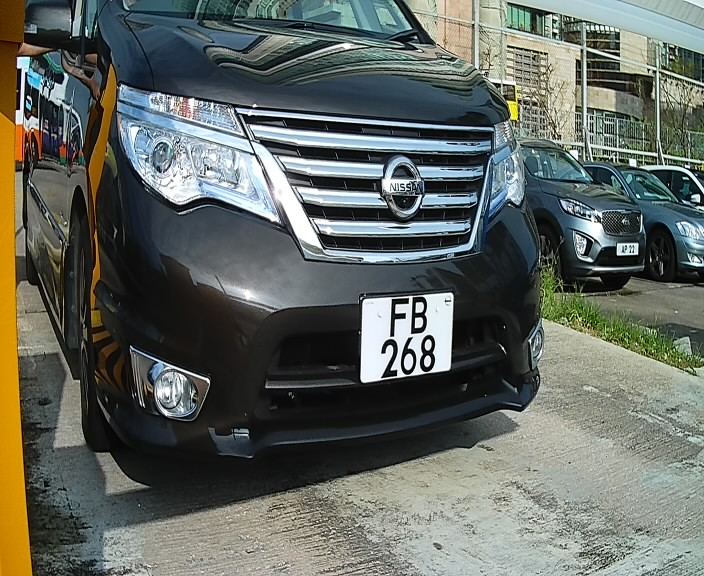License Plate: (354, 282, 461, 390)
